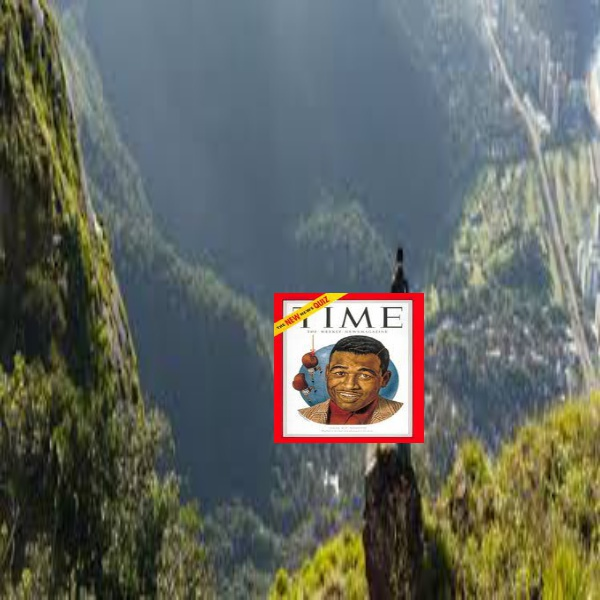time_cover: (270, 284, 427, 441)
